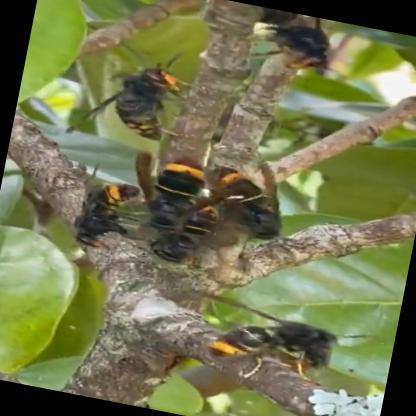bee: (191, 270, 354, 390), (78, 38, 210, 156), (112, 146, 229, 278), (233, 4, 361, 80), (57, 154, 142, 256), (221, 160, 308, 243)
